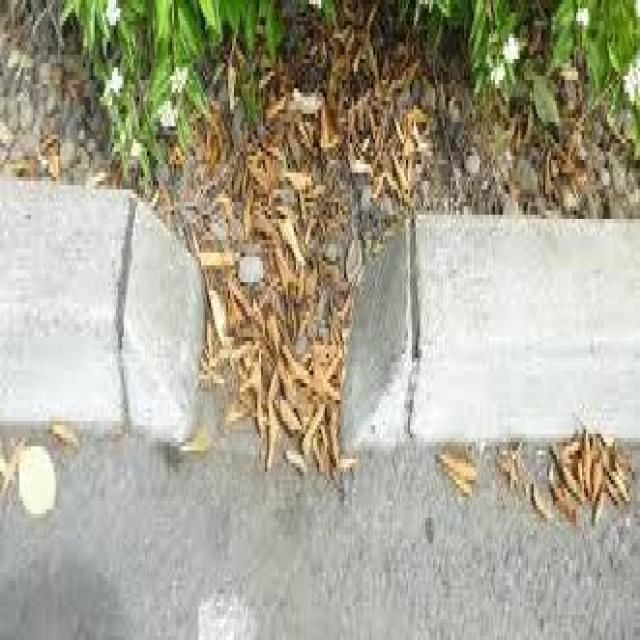curb: (1, 201, 640, 445)
